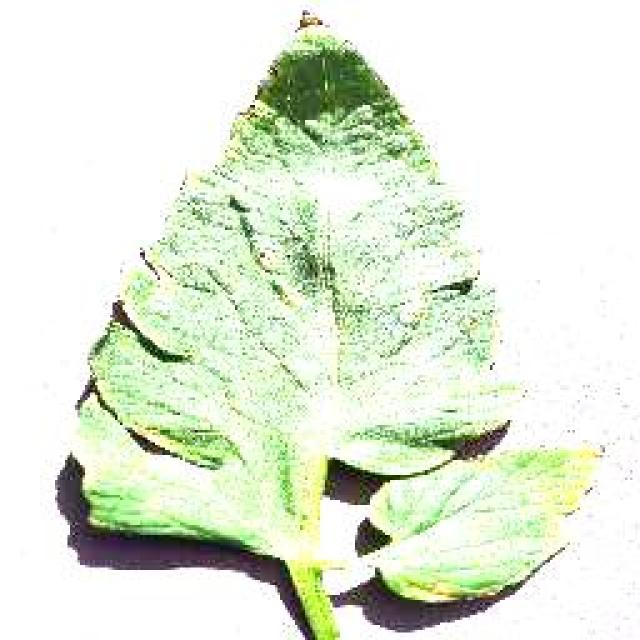Tomato___Target_Spot: (72, 15, 598, 638)
